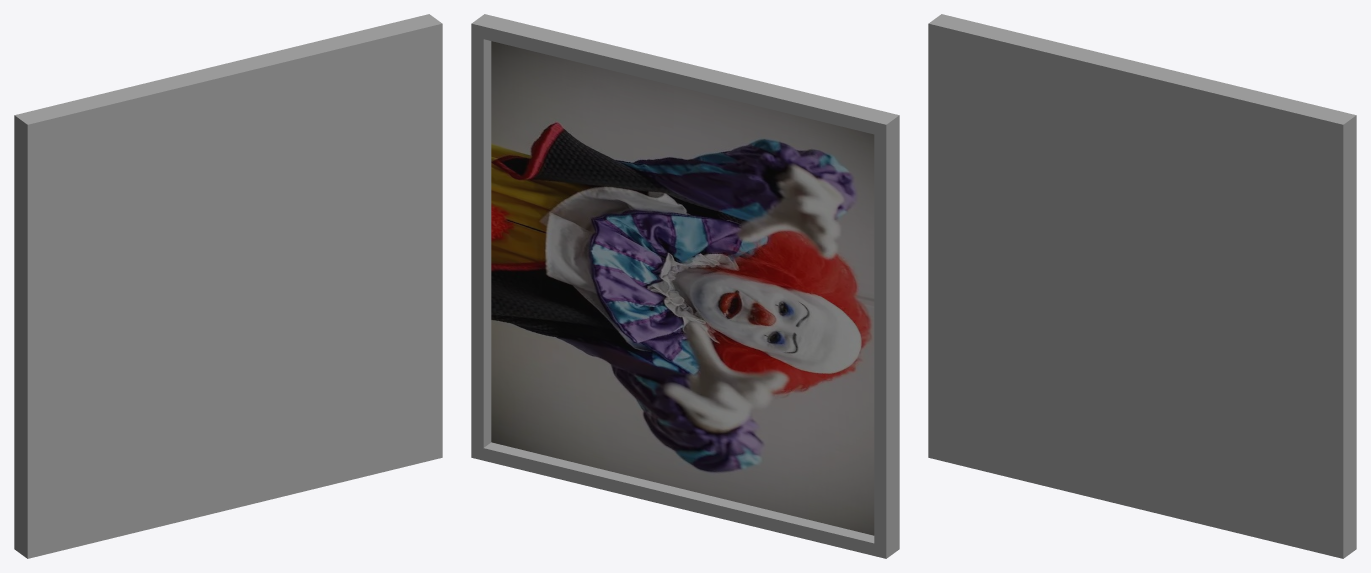
File: PictureFrame.fbx
3 views of the same model, side by side, from view 1: azimuth 30°, elevation 25°; view 2: azimuth 150°, elevation 25°; view 3: azimuth 330°, elevation 25° (orthographic).
Parts seen in each view (by area): view 1: PictureFrame; view 2: PictureFrame; view 3: PictureFrame.
Boxes of the visible parts, x1=… form: PictureFrame: x1=14, y1=14, x2=442, y2=558; PictureFrame: x1=471, y1=14, x2=899, y2=558; PictureFrame: x1=928, y1=14, x2=1356, y2=558.
Bounding box in the file's own units: 982 × 982 × 53.87.
